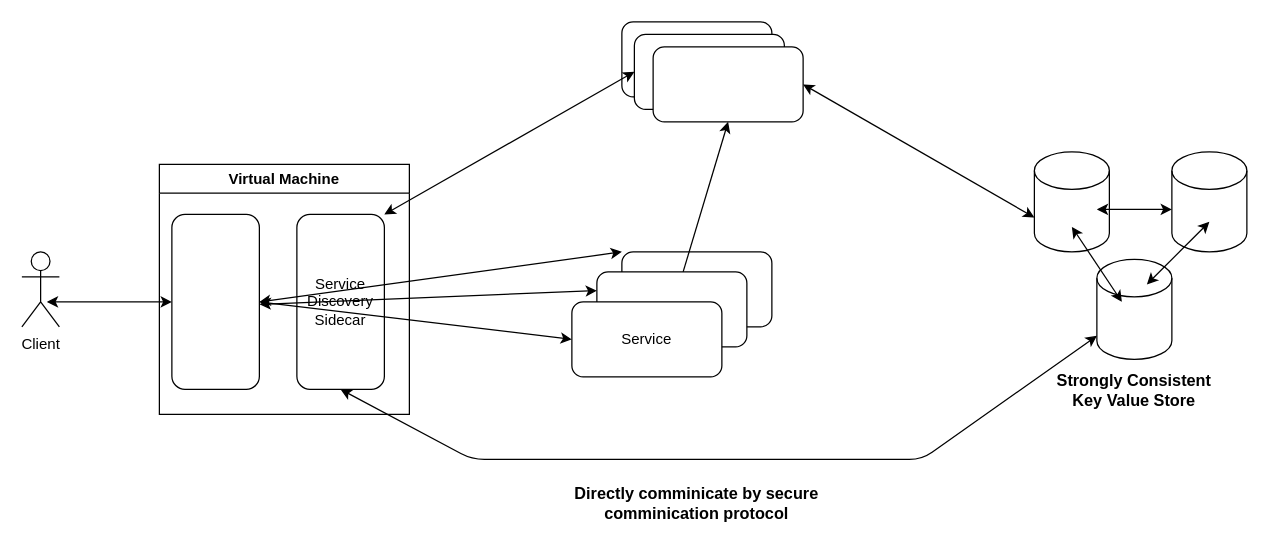
The diagram is 1269 pixels wide and 544 high, and some of its shapes have lost their labels. The shapes that lost their labels are listed below. From the top down, each one's centre as x and y in pixels, then its label:
At (x=727, y=84): "Service Registry".
At (x=215, y=301): "Load Balancer".
